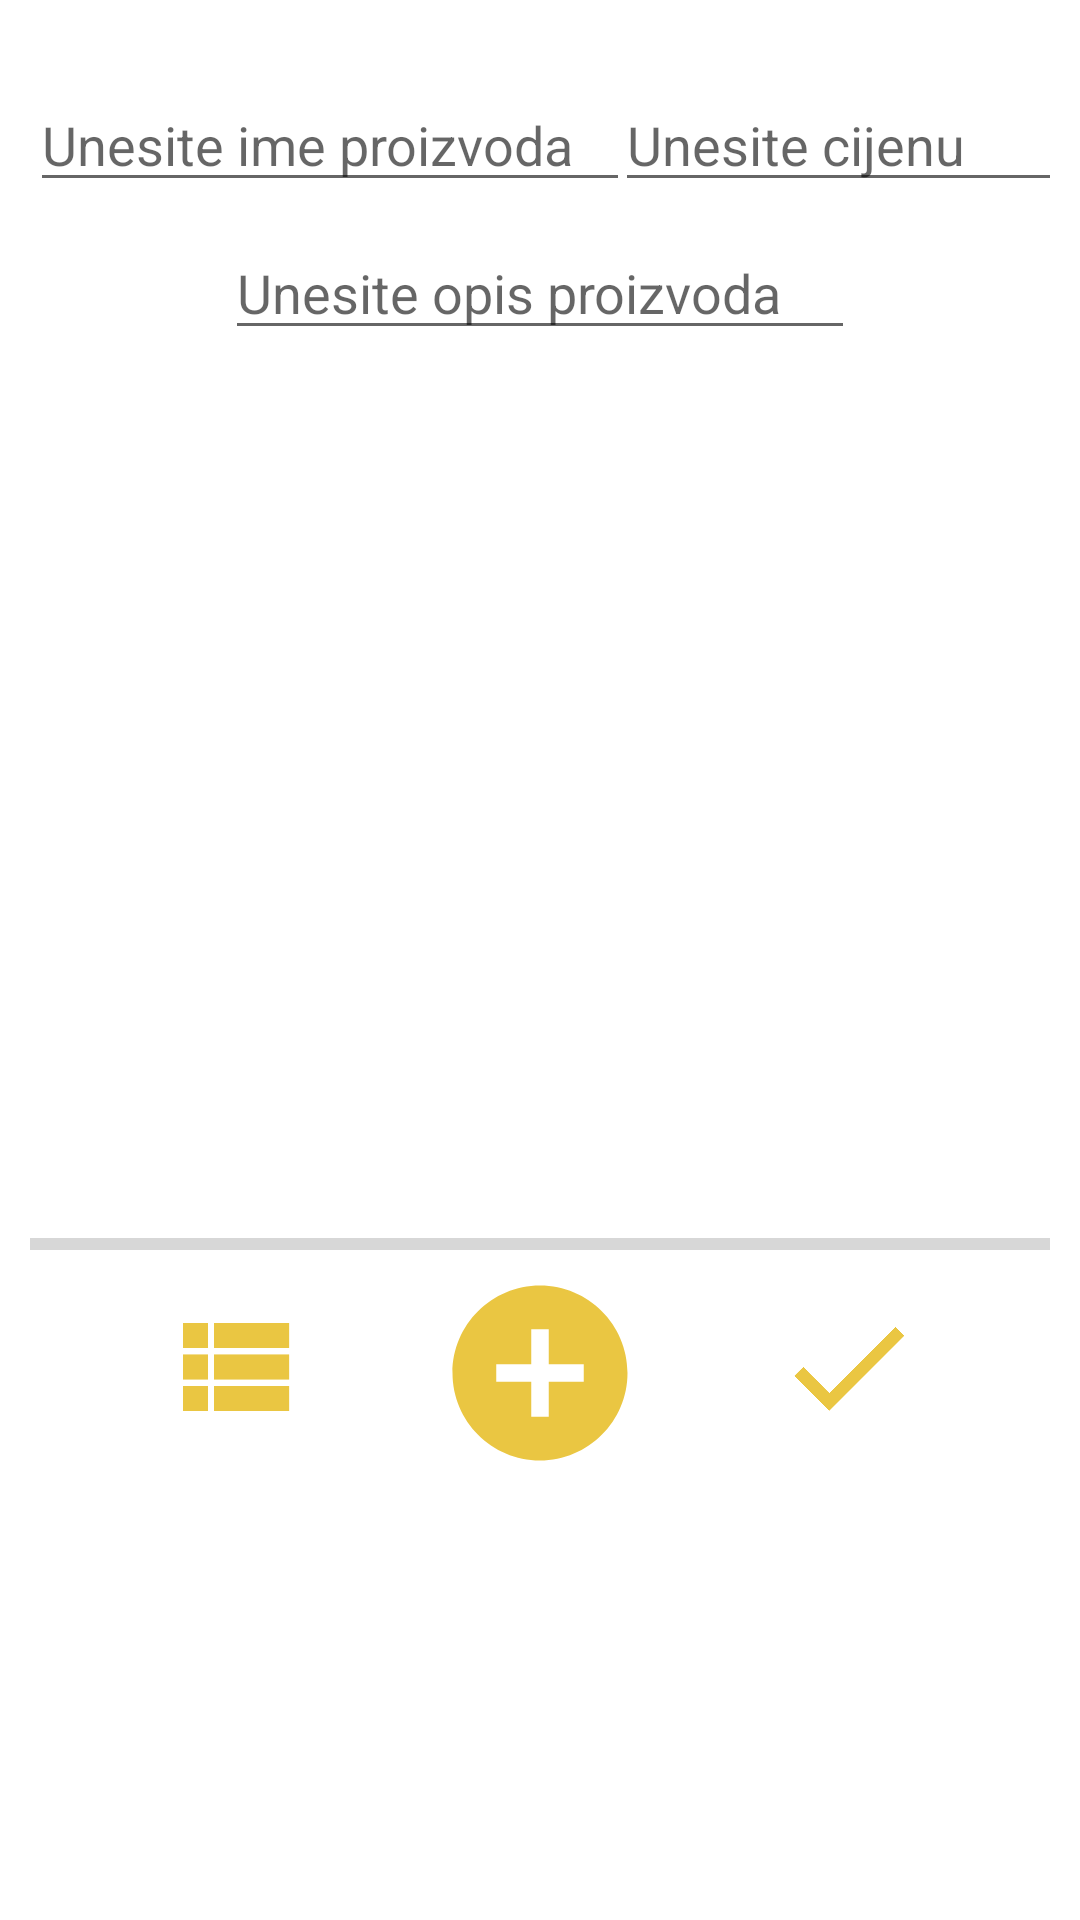

Icon click points for this 1080w x 1920h phone screenshot, format (x=x, y=y):
finish upload: (x=849, y=1369)
select upload: (x=540, y=1373)
view upload: (x=236, y=1367)
